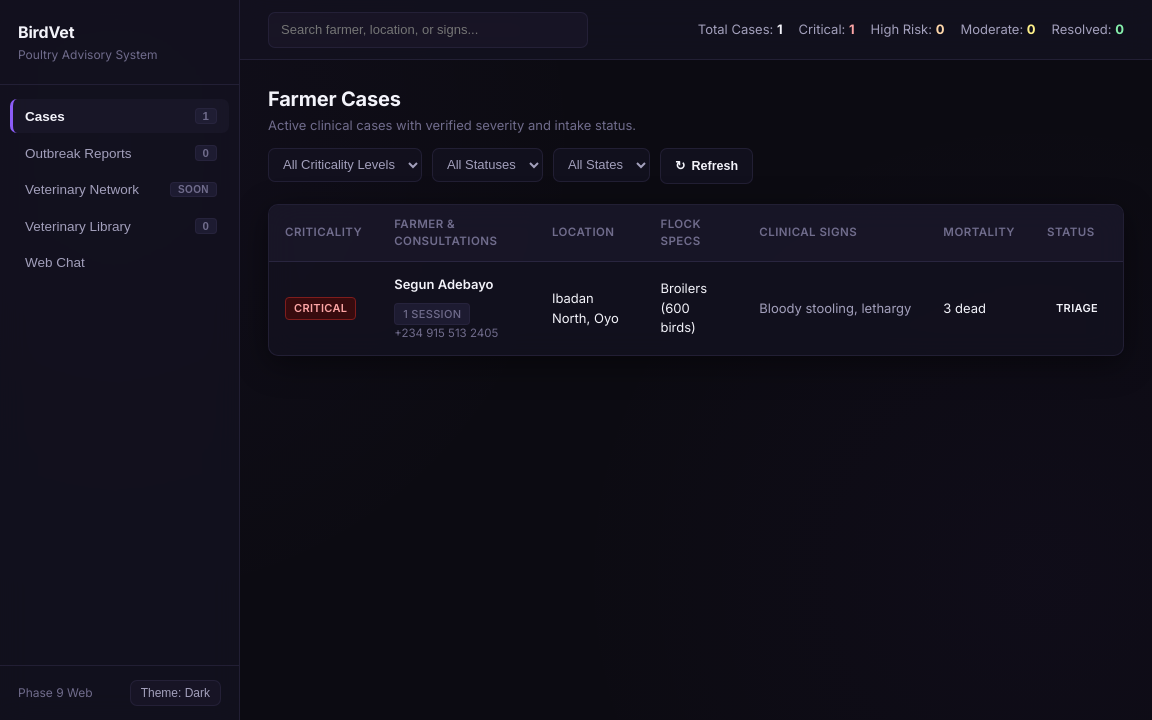
it: BirdVet Web Dashboard App › opens and closes the case detail drawer
Click the text "Segun Adebayo" at (444, 285), box [394,275,494,294]
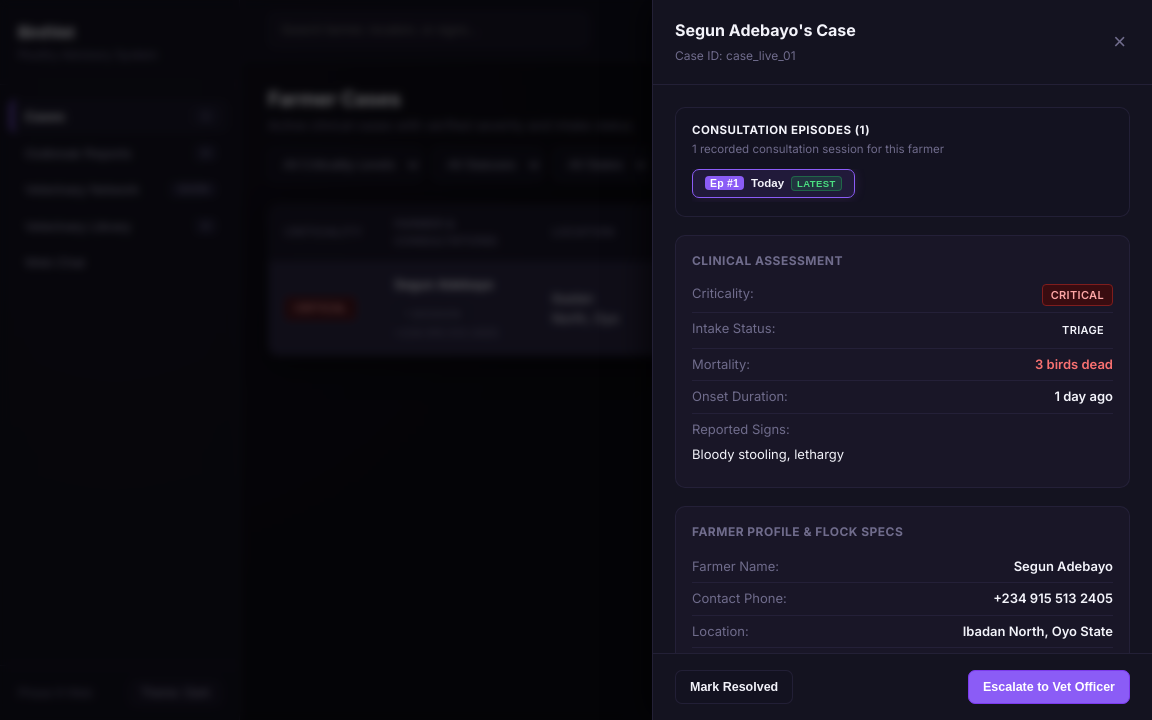
Check: the heading "Segun Adebayo's Case" is shown, box [675,18,856,42]
Check: the heading "Clinical Assessment" is shown, box [692,252,843,270]
Click the button named "Close case drawer" at (1120, 42), box [1109,25,1130,59]
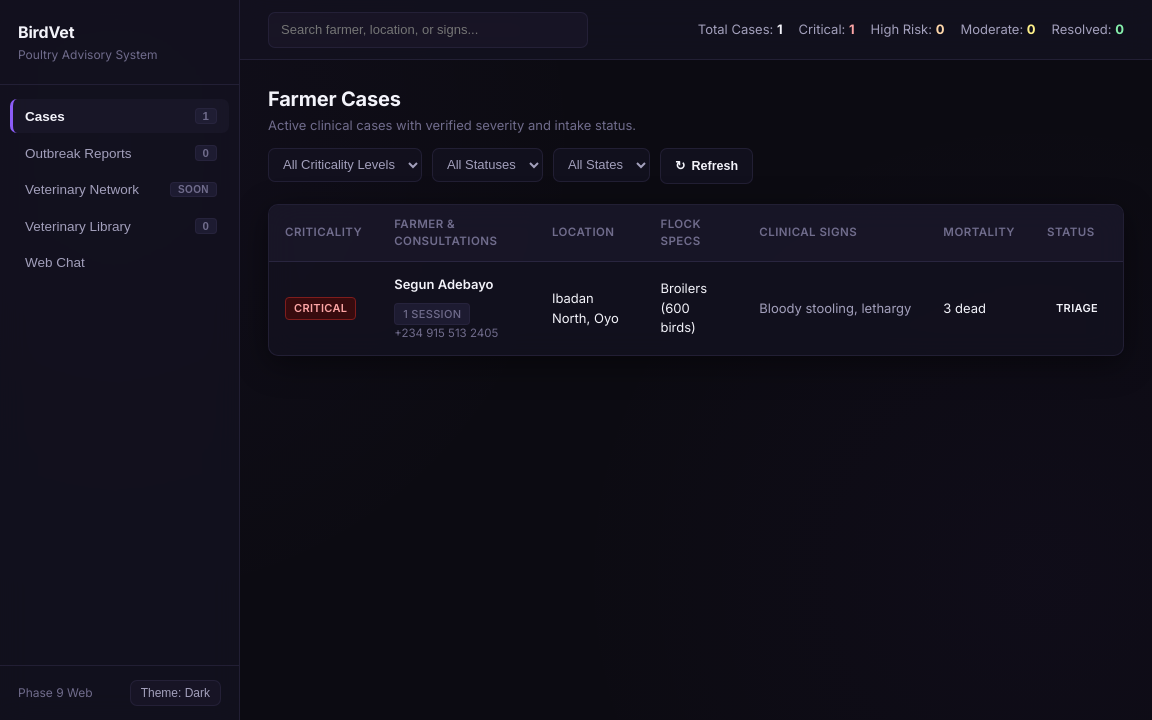
Check: the heading "Clinical Assessment" is gone
